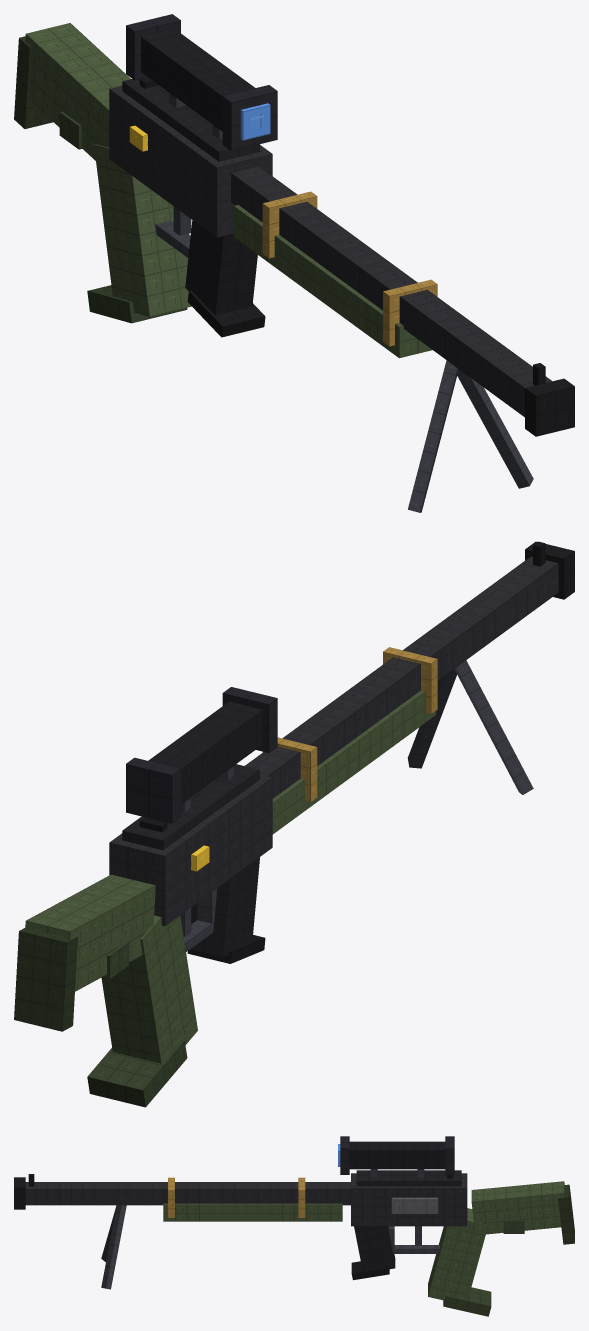
The picture shows the model from 3 angles, top to bottom: view 1: azimuth 30°, elevation 25°; view 2: azimuth 150°, elevation 25°; view 3: azimuth 270°, elevation 25°; orthographic projection. The views are drawn at different scales.
Parts seen in each view (by area): view 1: W15; view 2: W15; view 3: W15.
Part boxes in pixels (x1,y1,x2,y2): W15: (14, 14, 574, 512); W15: (14, 541, 574, 1107); W15: (14, 1136, 574, 1316).
Bounding box in the file's own units: 0.6772 × 1.58 × 4.81.
Materials: 1 (1 with a texture image).
